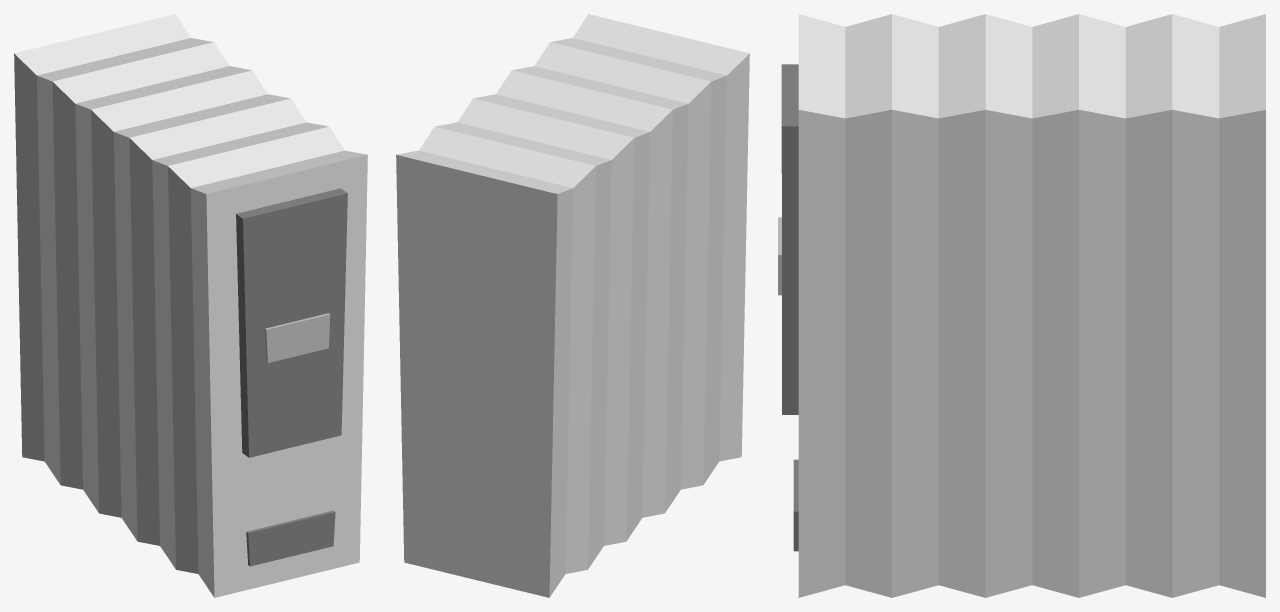
Rendered from Heater.fbx.
3 renders of one model, left to right at view 1: azimuth 30°, elevation 25°; view 2: azimuth 150°, elevation 25°; view 3: azimuth 270°, elevation 25°, orthographic. The views are drawn at different scales.
Parts seen in each view (by area): view 1: Heater; view 2: Heater; view 3: Heater.
Boxes of the visible parts, x1,y1,x2,y2 form: Heater: [14, 14, 367, 597]; Heater: [396, 14, 749, 597]; Heater: [778, 14, 1265, 597].
Size of the model in its own units: 53.69 by 129 by 116.
